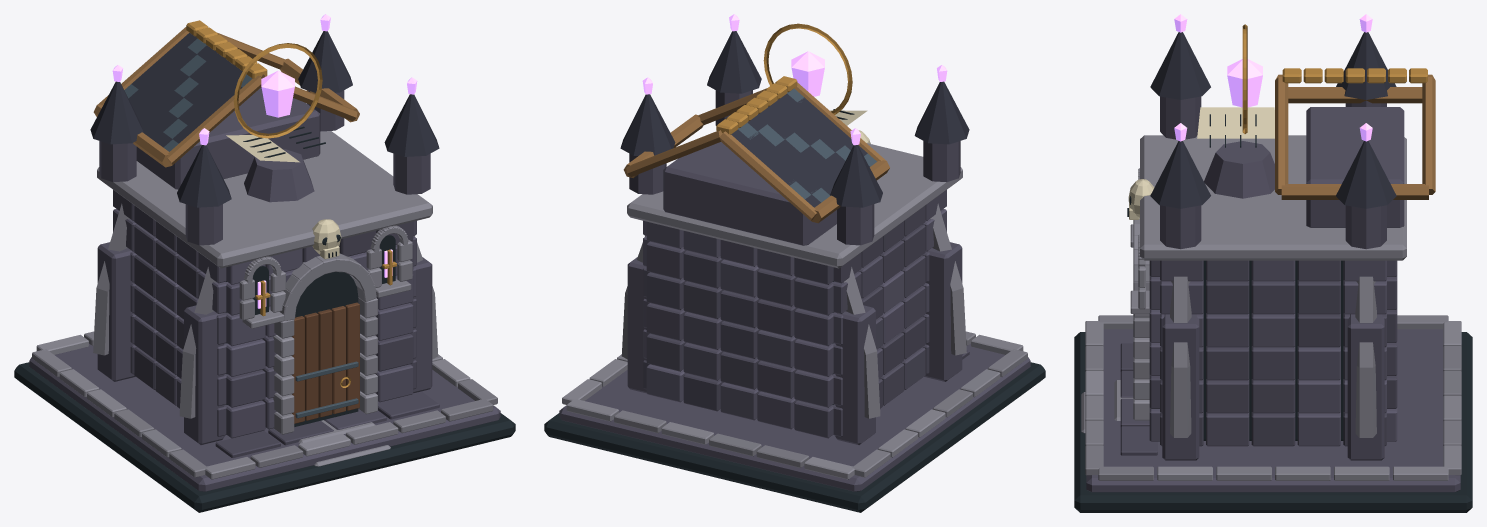
Rendered from necro__base__L01.glb.
The picture shows the model from 3 angles, left to right: view 1: azimuth 30°, elevation 25°; view 2: azimuth 150°, elevation 25°; view 3: azimuth 270°, elevation 25°; orthographic projection. The views are drawn at different scales.
Visible parts, largest first — view 1: structure, weapon; view 2: structure, weapon; view 3: structure, weapon.
Boxes of the visible parts, box(x1,y1,x2,y2) form: structure: box(14, 14, 515, 512); weapon: box(226, 43, 325, 202); structure: box(544, 14, 1045, 512); weapon: box(763, 23, 867, 125); structure: box(1074, 14, 1472, 512); weapon: box(1197, 24, 1274, 198).
Size of the model in its own units: 0.803 by 0.8943 by 0.803.
